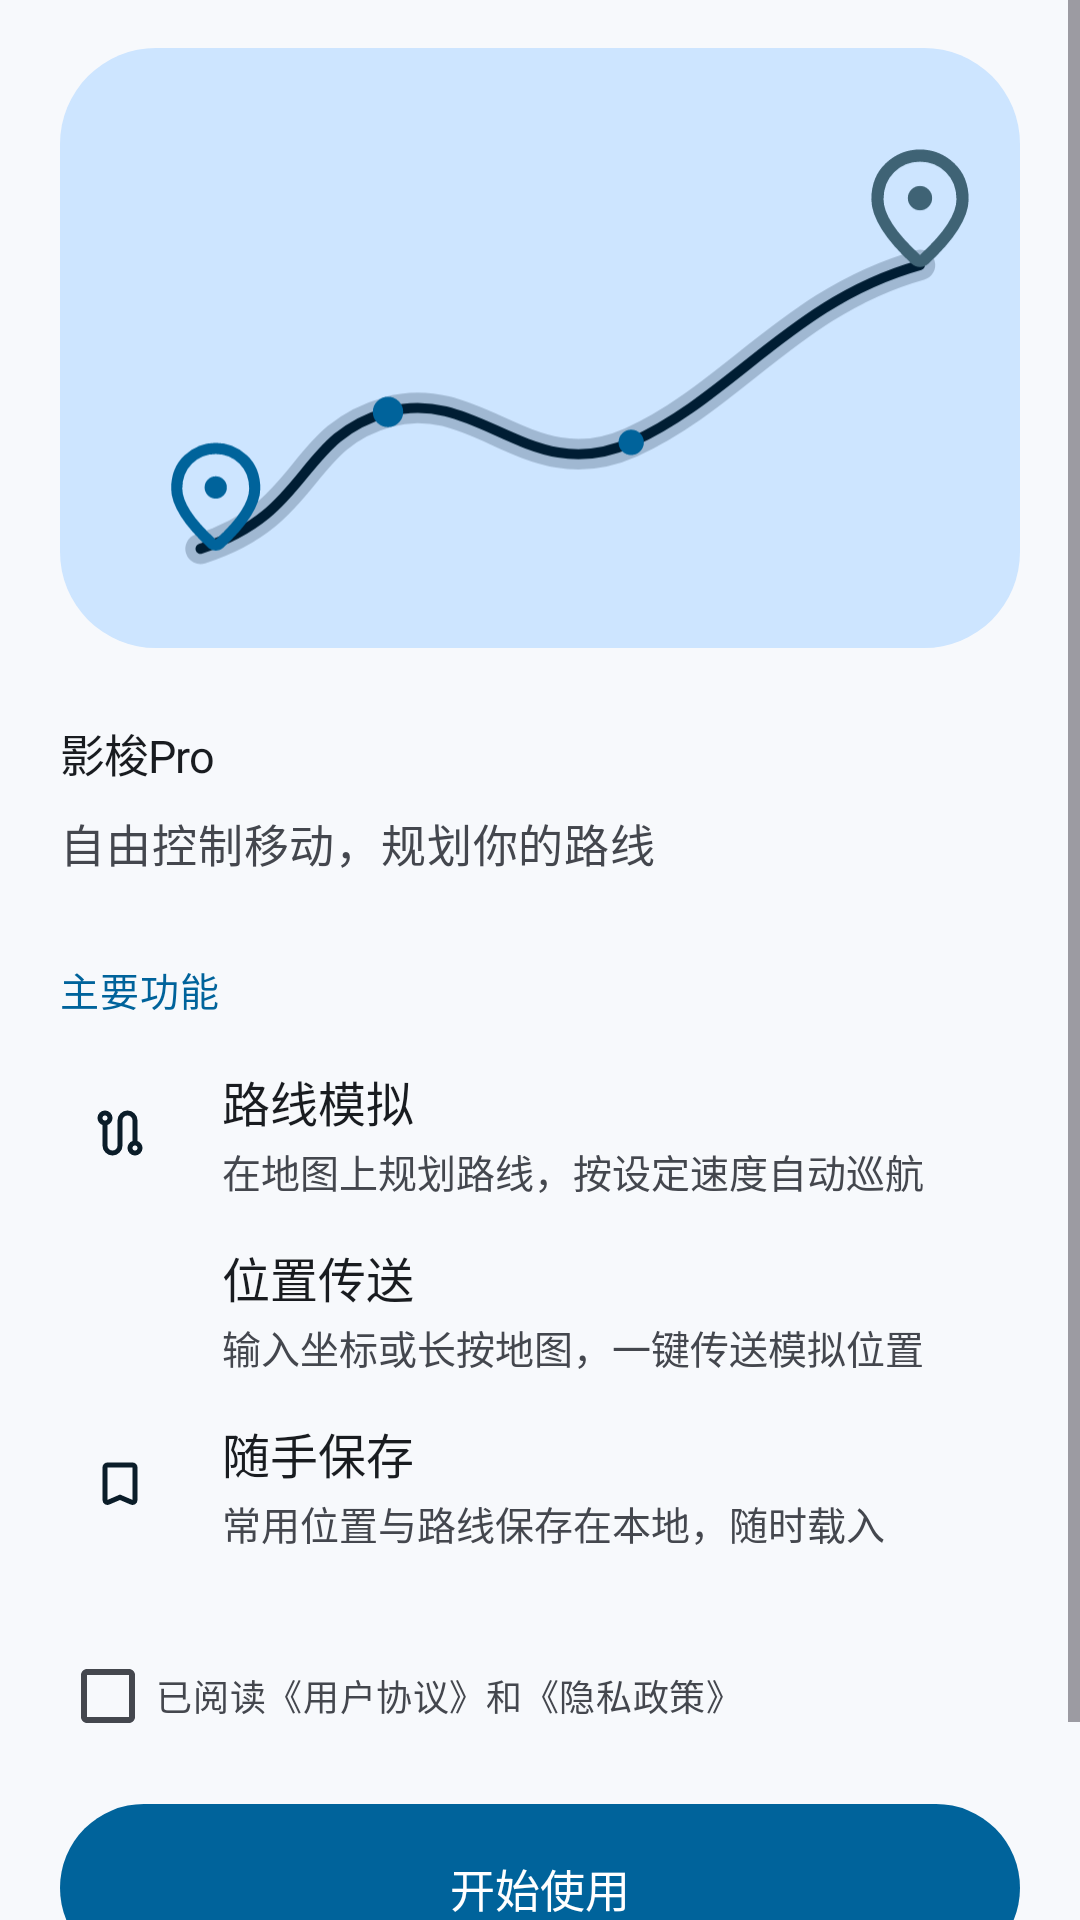

Named icons in this screenshot (1080w x 1920h) and their bounding boxes, detection(x1, y1, x2, y2):
bookmark: detection(102, 1462, 138, 1505)
route: detection(97, 1110, 143, 1156)
